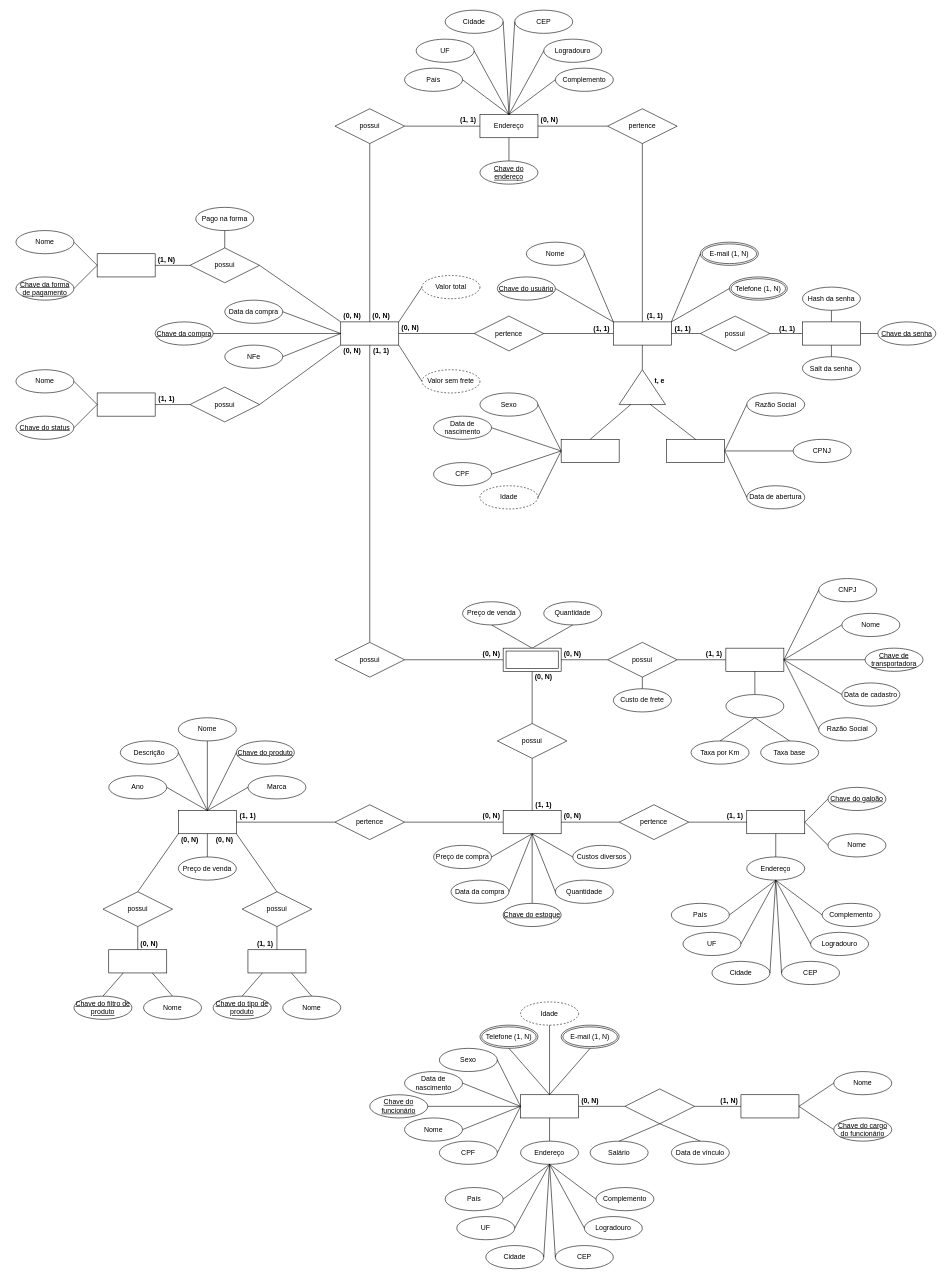
The diagram is 946 pixels wide and 1279 high, and some of its shapes have lost their labels. The centre of each missing label's shape, as x and y in pixels:
"Cargo de funcionário" belongs at (769,1106).
"Compra" belongs at (369,333).
"Estoque" belongs at (532,822).
"Filtro para produto" belongs at (137,961).
"Forma de pagamento" belongs at (126,265).
"Funcionário" belongs at (549,1106).
"Galpão" belongs at (775,822).
"Operação" belongs at (532,659).
"Pessoa física" belongs at (590,451).
"Pessoa jurídica" belongs at (695,451).
"Produto" belongs at (207,822).
"Senha" belongs at (831,333).
"Status" belongs at (126,404).
"Taxa" belongs at (754,706).
"Tipo de produto" belongs at (276,961).
"Transportadora" belongs at (754,659).
"Usuário" belongs at (642,333).
"vínculo" belongs at (659,1106).
